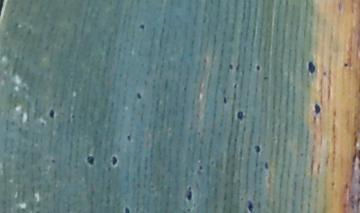tarspot: (306, 60, 316, 76), (185, 185, 193, 201), (313, 102, 322, 116), (245, 199, 254, 213), (85, 154, 95, 166), (236, 110, 245, 122), (110, 154, 118, 167), (254, 143, 262, 156), (263, 159, 270, 171), (163, 77, 170, 89), (221, 95, 229, 105), (48, 108, 54, 121), (254, 64, 262, 73), (25, 26, 33, 35), (135, 90, 142, 100), (234, 63, 241, 73), (181, 85, 188, 94), (123, 206, 131, 213), (138, 23, 145, 31), (342, 61, 349, 69), (232, 82, 239, 90), (232, 136, 239, 144), (125, 133, 131, 142), (227, 62, 232, 72), (321, 70, 328, 77), (262, 75, 270, 81), (330, 179, 336, 187), (198, 164, 204, 171), (70, 113, 76, 120), (202, 56, 208, 63), (298, 151, 304, 158), (13, 22, 19, 29), (50, 158, 56, 164)
